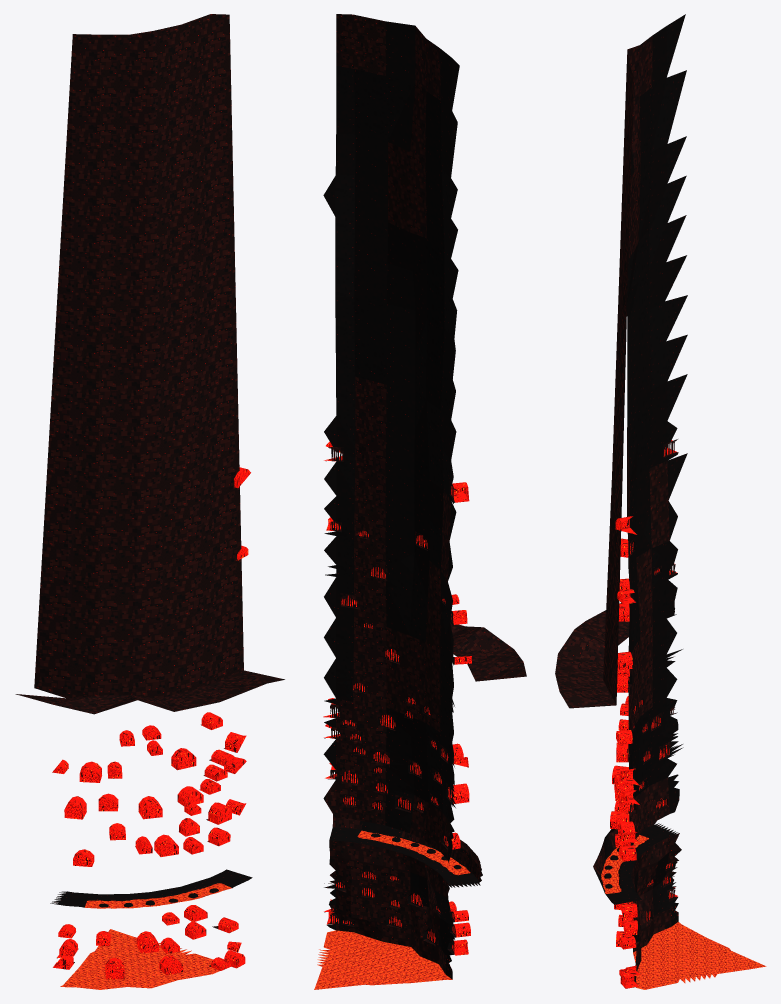
Rendered from map_base_s2.glb.
3 renders of one model, left to right at view 1: azimuth 30°, elevation 25°; view 2: azimuth 150°, elevation 25°; view 3: azimuth 270°, elevation 25°, orthographic. The views are drawn at different scales.
Parts seen in each view (by area): view 1: MapBaseS2Rock; view 2: MapBaseS2Rock; view 3: MapBaseS2Rock.
Boxes of the visible parts, x1,y1,x2,y2 form: MapBaseS2Rock: [15, 14, 284, 989]; MapBaseS2Rock: [314, 14, 526, 989]; MapBaseS2Rock: [555, 14, 766, 989].
Size of what is drawn, in the model's own units: 85.72 by 342 by 72.74.
Materials: 6 (6 with a texture image).
